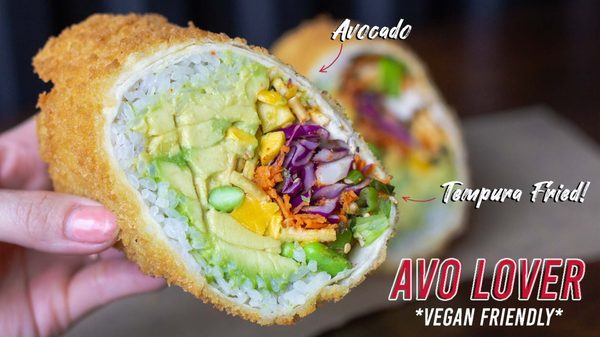soup: (35, 14, 400, 325)
